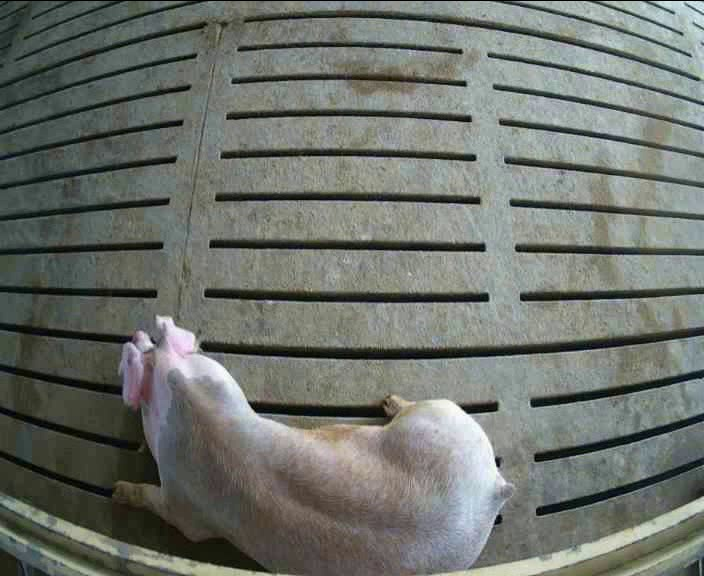pig: (113, 317, 511, 573)
